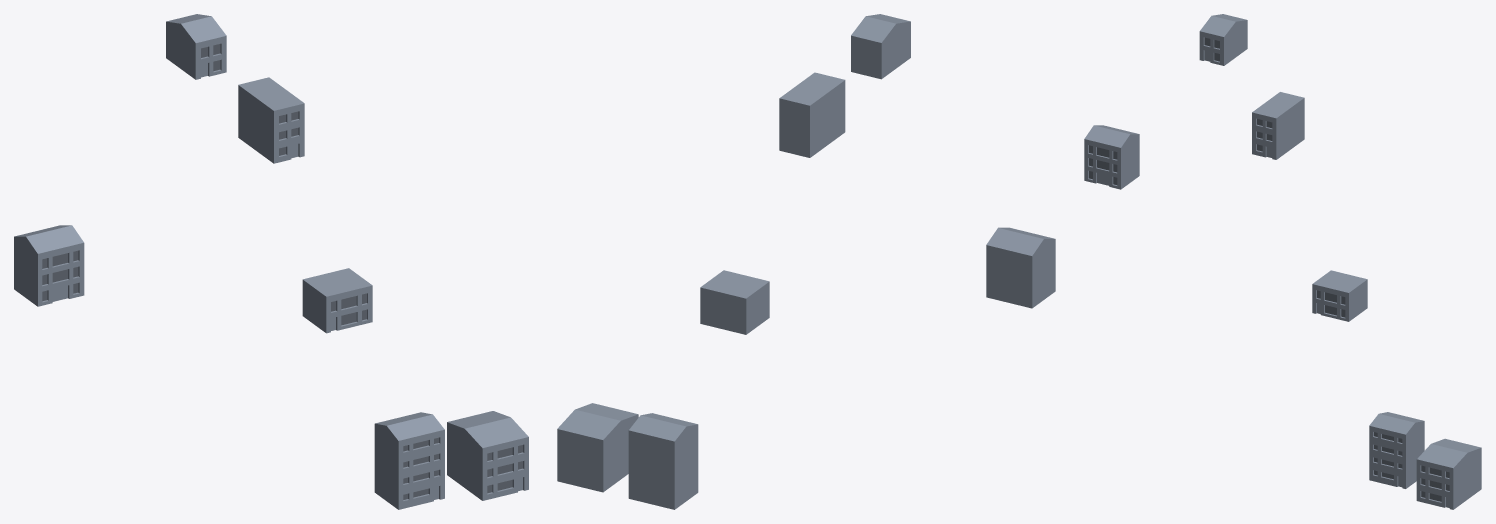
The model's file is BinaGrup5.gltf.
The picture shows the model from 3 angles, left to right: view 1: azimuth 30°, elevation 25°; view 2: azimuth 150°, elevation 25°; view 3: azimuth 330°, elevation 25°; orthographic projection. The views are drawn at different scales.
Visible parts, largest first — view 1: Building_061.011, Building_068.011, Building_043.011, Building_023.011, Building_052.011, Building_035.011, Building_023.012, Building_068.012, Building_061.012; view 2: Building_061.011, Building_068.011, Building_023.011, Building_043.011, Building_052.011, Building_035.011; view 3: Building_068.011, Building_061.011, Building_043.011, Building_023.011, Building_052.011, Building_035.011.
Part boxes in pixels (x1=…): Building_061.011: x1=374, y1=412, x2=444, y2=509; Building_068.011: x1=447, y1=411, x2=528, y2=500; Building_043.011: x1=238, y1=77, x2=304, y2=163; Building_023.011: x1=14, y1=225, x2=84, y2=306; Building_052.011: x1=302, y1=268, x2=372, y2=333; Building_035.011: x1=166, y1=14, x2=226, y2=79; Building_023.012: x1=42, y1=250, x2=78, y2=301; Building_068.012: x1=487, y1=445, x2=522, y2=493; Building_061.012: x1=403, y1=437, x2=438, y2=499; Building_061.011: x1=628, y1=413, x2=698, y2=509; Building_068.011: x1=557, y1=403, x2=638, y2=492; Building_023.011: x1=986, y1=227, x2=1055, y2=308; Building_043.011: x1=779, y1=72, x2=845, y2=157; Building_052.011: x1=700, y1=270, x2=769, y2=334; Building_035.011: x1=851, y1=14, x2=910, y2=79; Building_068.011: x1=1416, y1=438, x2=1481, y2=509; Building_061.011: x1=1369, y1=412, x2=1424, y2=488; Building_043.011: x1=1252, y1=92, x2=1304, y2=159; Building_023.011: x1=1084, y1=125, x2=1139, y2=189; Building_052.011: x1=1312, y1=270, x2=1367, y2=321; Building_035.011: x1=1199, y1=14, x2=1247, y2=65.
Size of the model in its own units: 0.5054 by 0.5348 by 0.0652.
